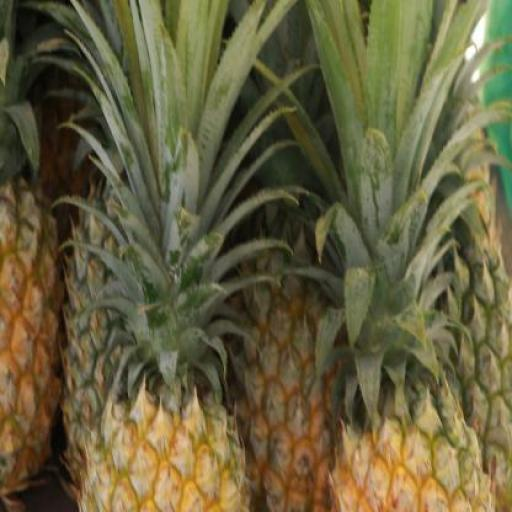Pineapple - v8 v1: (341, 241, 492, 512), (237, 211, 348, 512), (73, 374, 254, 512)
